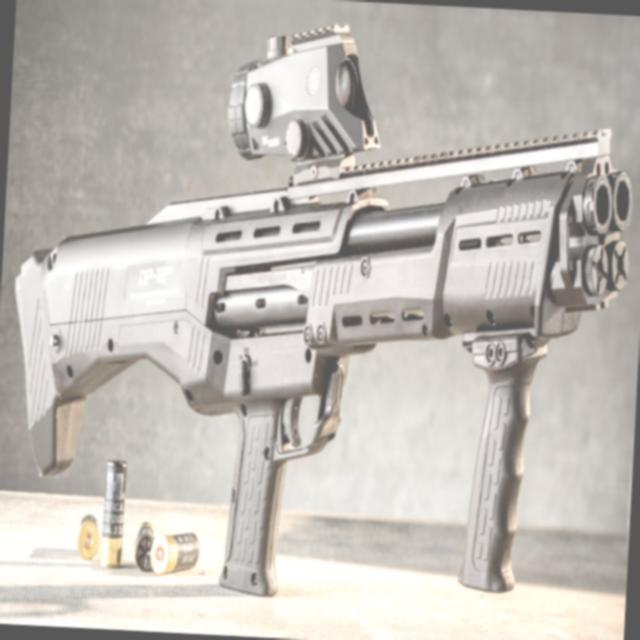shotgun: (6, 98, 640, 595)
